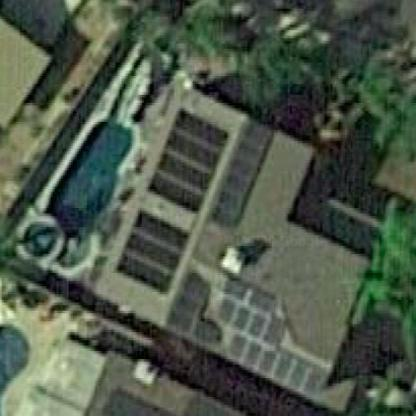solar_panel: (201, 268, 336, 398), (153, 95, 224, 216), (119, 200, 189, 297), (220, 113, 277, 232)
swimming_pool: (23, 115, 157, 263)
